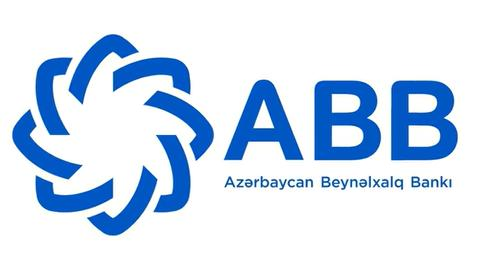ABB: (10, 33, 214, 238)
